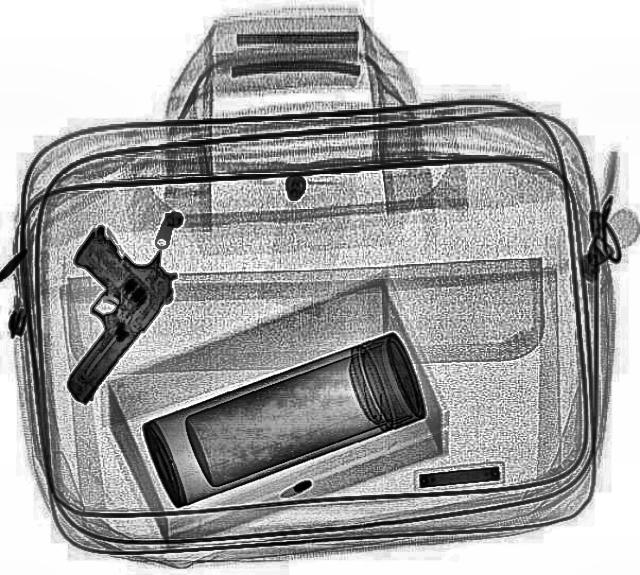Gun: (0, 219, 188, 392)
